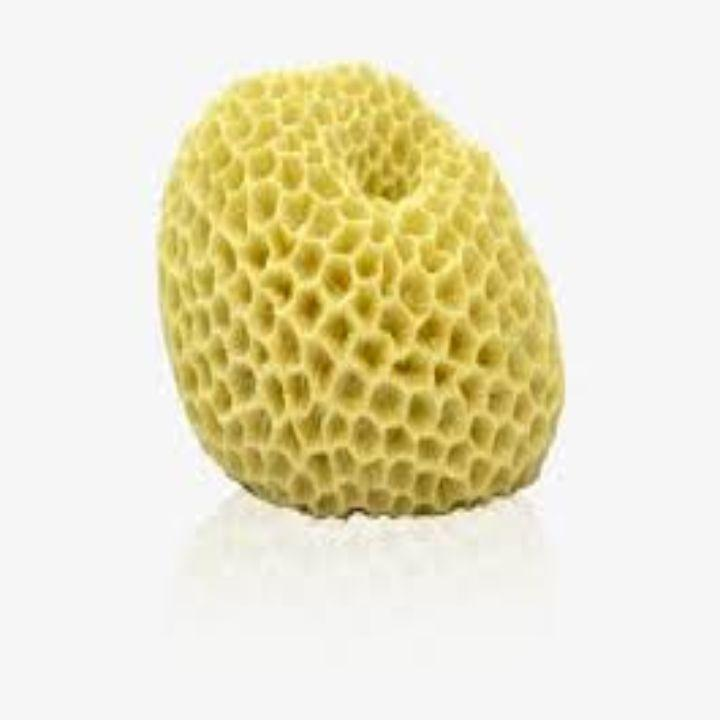Healthy Coral: (134, 59, 590, 533)
